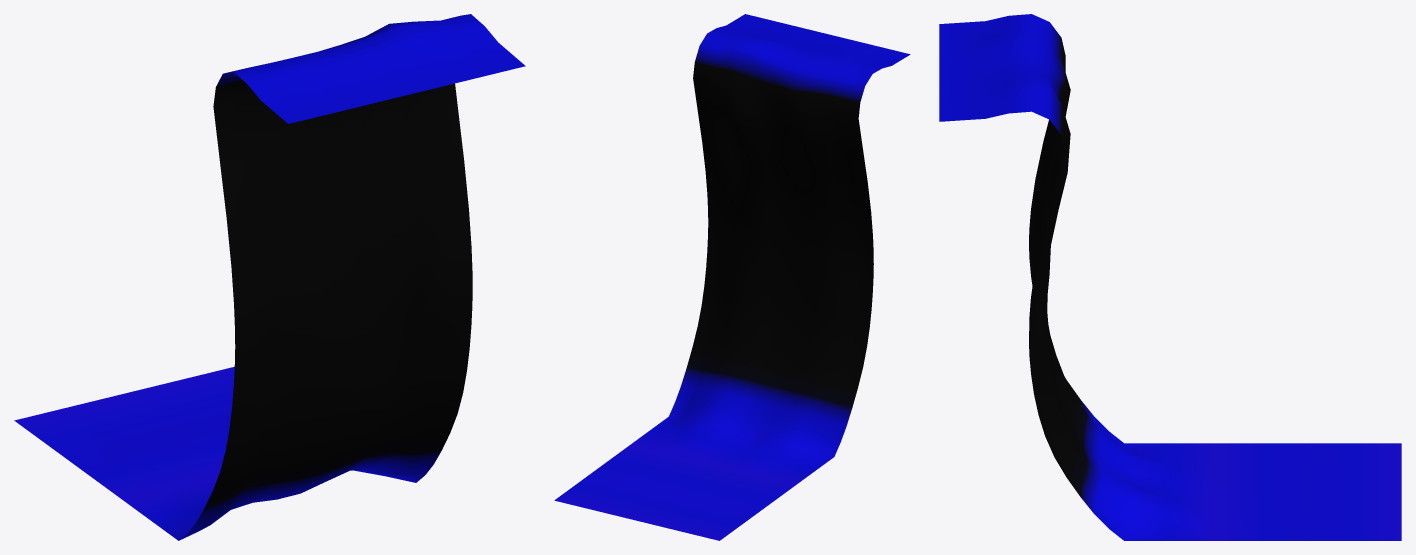
File: WaterFallCliff01A 3M.fbx
The picture shows the model from 3 angles, left to right: view 1: azimuth 30°, elevation 25°; view 2: azimuth 150°, elevation 25°; view 3: azimuth 270°, elevation 25°; orthographic projection. The views are drawn at different scales.
Parts seen in each view (by area): view 1: WaterFallCliff01A 3M; view 2: WaterFallCliff01A 3M; view 3: WaterFallCliff01A 3M.
Boxes of the visible parts, left/top/right/bottom form: WaterFallCliff01A 3M: left=14, top=14, right=525, bottom=540; WaterFallCliff01A 3M: left=554, top=14, right=910, bottom=540; WaterFallCliff01A 3M: left=939, top=14, right=1401, bottom=540.
Size of the model in its own units: 1 by 2.07 by 2.
